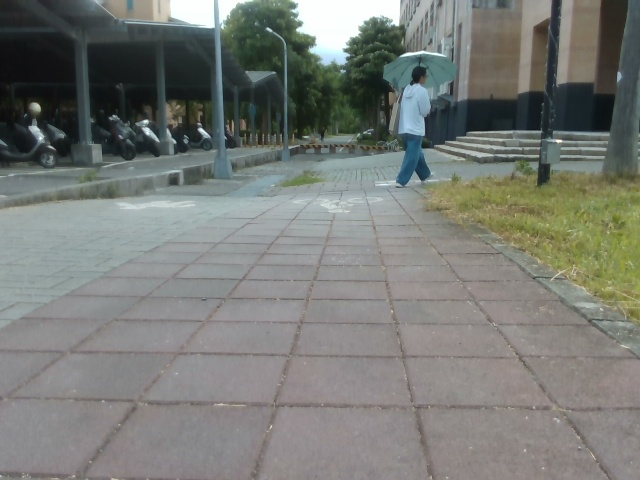grass: (421, 160, 639, 340), (173, 0, 404, 147), (602, 69, 639, 174)
road: (0, 153, 639, 479)
sidewalk: (0, 154, 211, 209)
